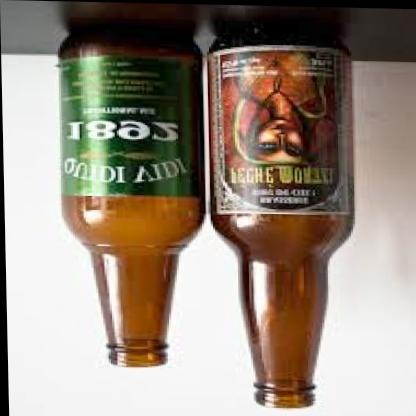trash: (208, 21, 353, 407), (59, 23, 203, 365)
